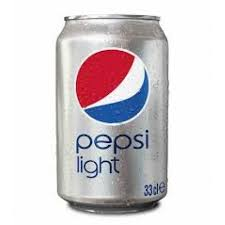pepsi_can: (54, 14, 171, 214)
